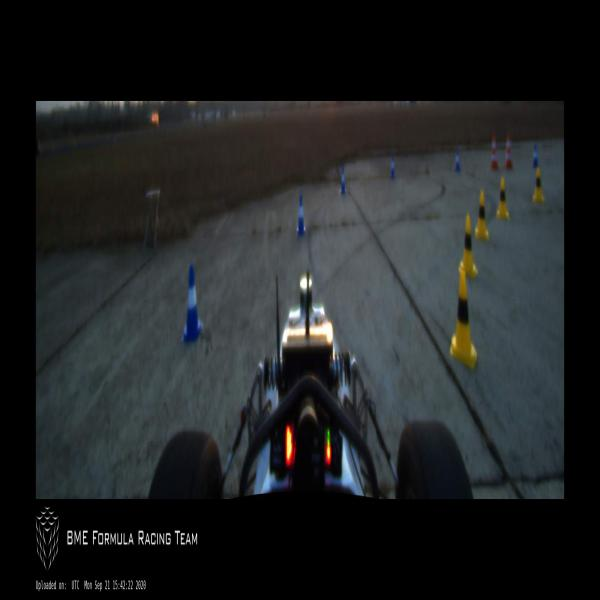blue_cone: (180, 264, 202, 342), (296, 195, 306, 235), (340, 166, 346, 193), (532, 143, 538, 169), (389, 153, 395, 177), (455, 149, 461, 173)
large_orange_cone: (505, 131, 514, 169), (491, 133, 499, 170)
yellow_cone: (451, 269, 476, 364), (459, 215, 477, 275), (475, 190, 490, 240), (496, 176, 510, 219), (533, 168, 544, 203)
